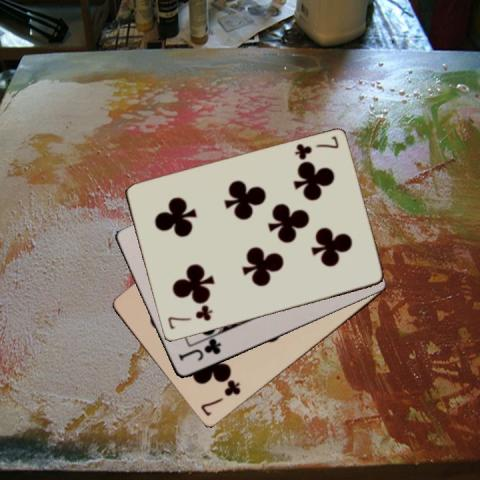7c: (197, 379, 242, 418), (291, 133, 340, 162), (164, 305, 214, 331)
Jc: (175, 337, 222, 363)
